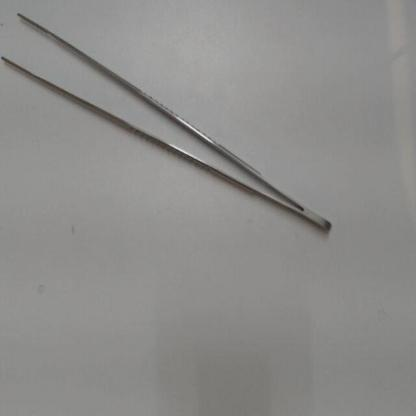DeBakey Dissector: (3, 3, 350, 252)
